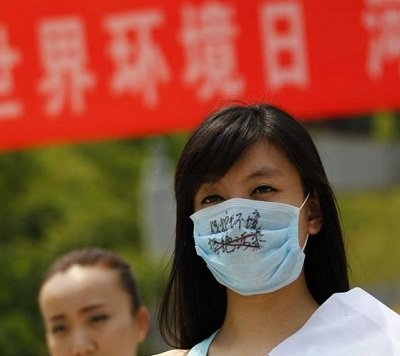face: (40, 271, 134, 355)
face_mask: (191, 162, 307, 293)
